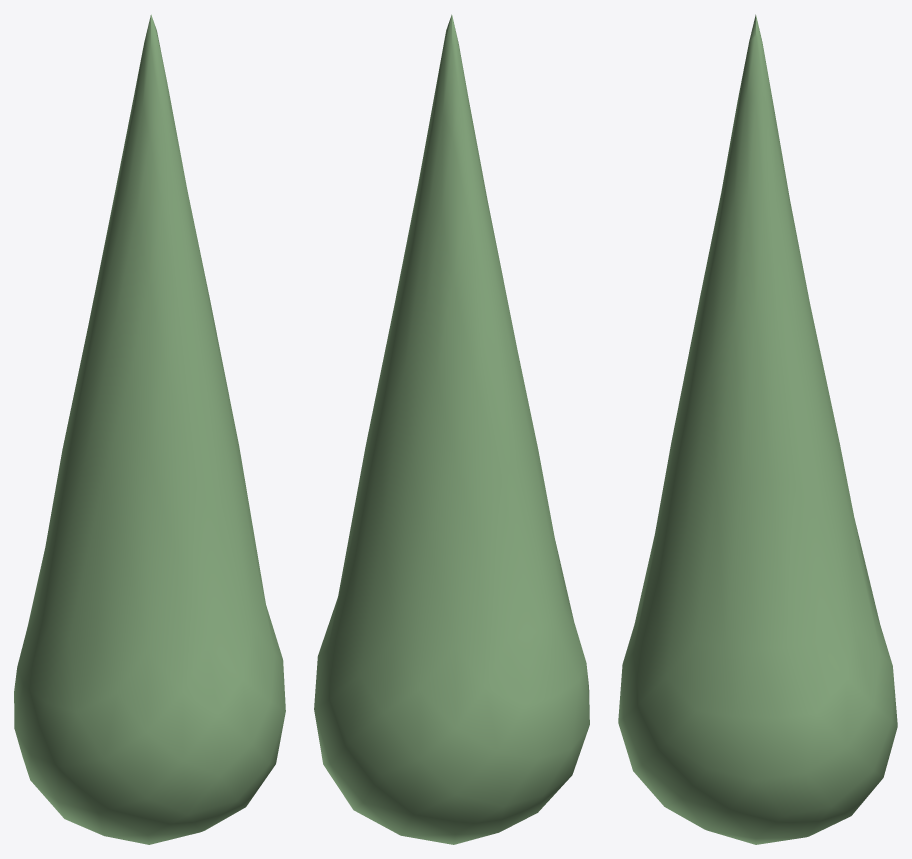
File: tree-conifer-c-crown.glb
3 views of the same model, side by side, from view 1: azimuth 30°, elevation 25°; view 2: azimuth 150°, elevation 25°; view 3: azimuth 270°, elevation 25° (orthographic).
Parts seen in each view (by area): view 1: tree-conifer-c-crown; view 2: tree-conifer-c-crown; view 3: tree-conifer-c-crown.
Boxes of the visible parts, x1,y1,x2,y2 form: tree-conifer-c-crown: (14, 14, 285, 844); tree-conifer-c-crown: (314, 14, 589, 844); tree-conifer-c-crown: (618, 14, 897, 844).
Size of the model in its own units: 0.2009 by 0.6562 by 0.2037.
